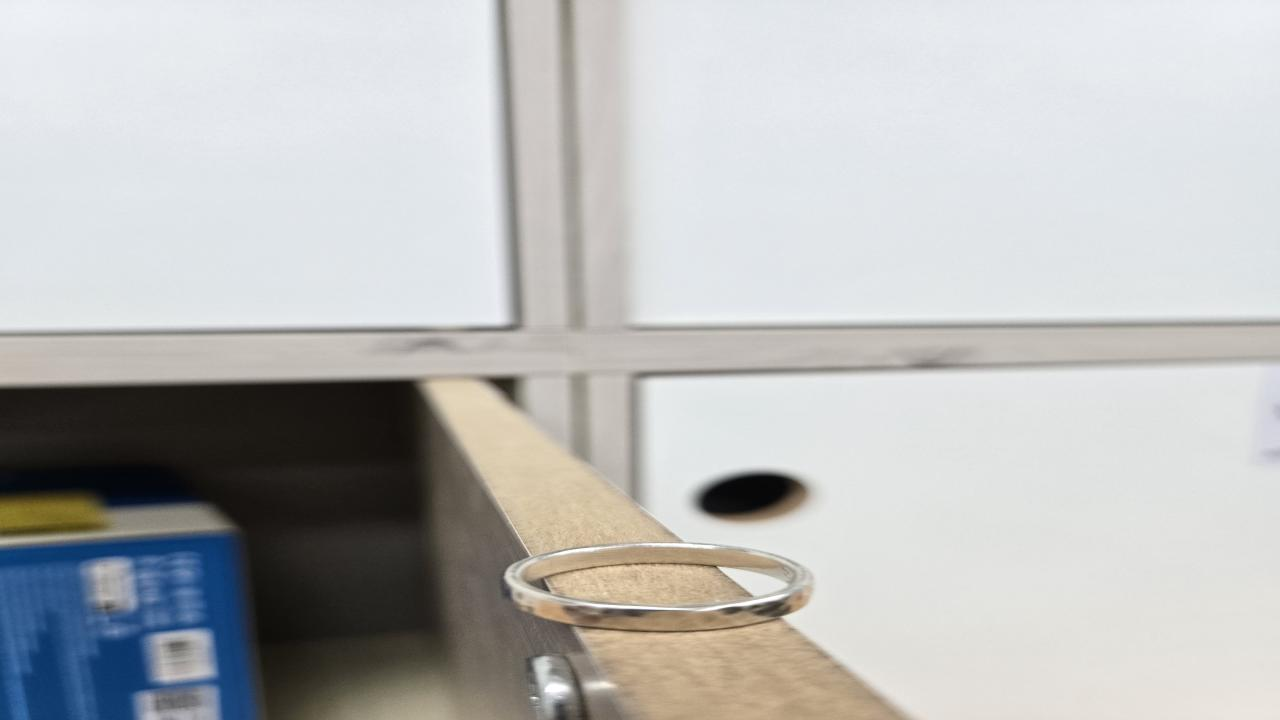ring: (499, 541, 818, 634)
